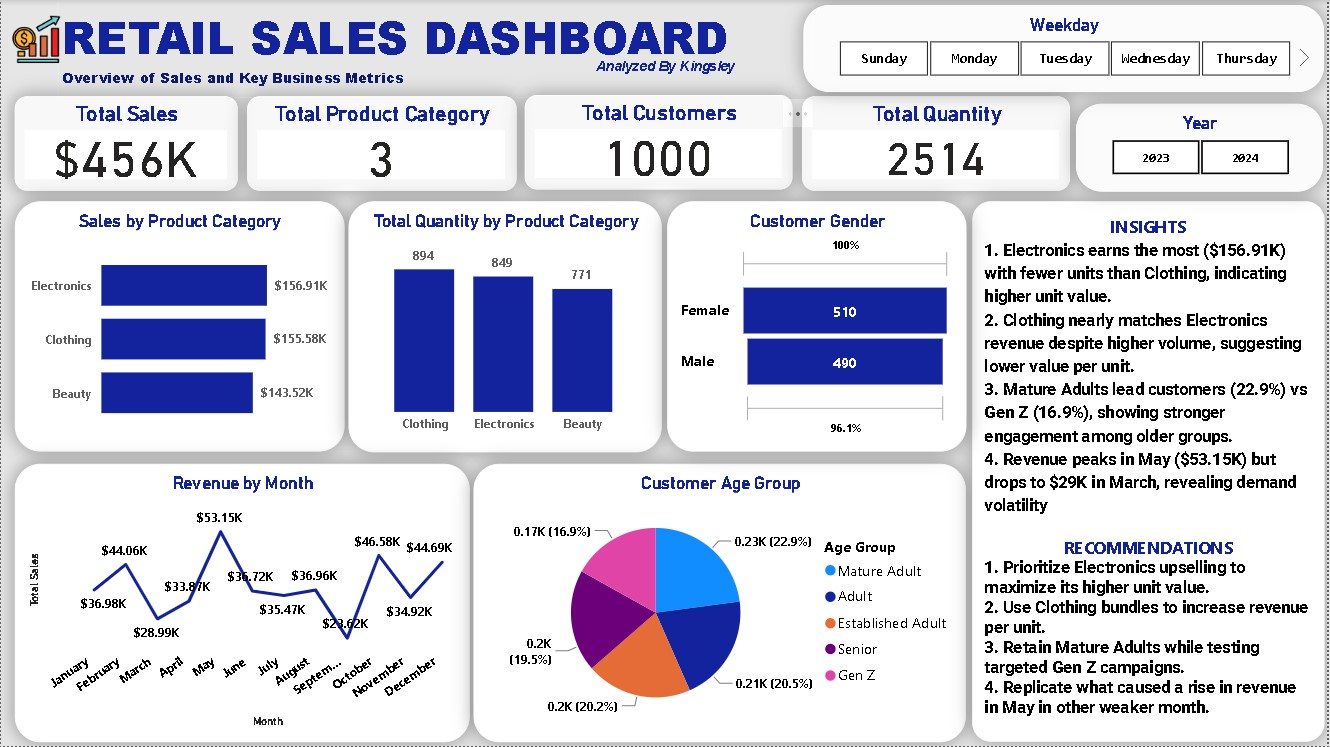

The dashboard page shown, as its layout file describes it:
{"tool":"powerbi","page":{"name":"Page 1","canvas":[1280,720],"ordinal":0},"visuals":[{"type":"textbox","box":[54.7,0,729.1,94.2],"z":0},{"type":"textbox","box":[487.3,49.1,227.3,45.5],"z":1000},{"type":"image","box":[5.8,9.3,55.8,57],"z":2000},{"type":"cardVisual","title":"Total Sales","fields":{"Data":["Sum(retail_sales_dataset_063247 (1).Total Sales)"]},"box":[12.7,92.9,215.3,91.1],"z":3000},{"type":"cardVisual","title":"Total Product Category","fields":{"Data":["Count(retail_sales_dataset_063247 (1).Product Category)"]},"box":[237.1,92.9,259.7,91.1],"z":4000},{"type":"cardVisual","title":"Total Customers","fields":{"Data":["Count(retail_sales_dataset_063247 (1).Customer ID)"]},"box":[506,91.8,258.6,91.1],"z":5000},{"type":"cardVisual","title":"Total Quantity","fields":{"Data":["Sum(retail_sales_dataset_063247 (1).Quantity)"]},"box":[773.7,92.9,258.6,91.1],"z":6000},{"type":"clusteredBarChart","title":"Sales by Product Category","fields":{"Category":["retail_sales_dataset_063247 (1).Product Category"],"Y":["Sum(retail_sales_dataset_063247 (1).Total Sales)"]},"box":[12.7,194.5,318.2,241.8],"z":7000},{"type":"columnChart","title":"Total Quantity by Product Category","fields":{"Category":["retail_sales_dataset_063247 (1).Product Category"],"Y":["Sum(retail_sales_dataset_063247 (1).Quantity)"]},"box":[335.5,193.6,302.7,242.7],"z":8000},{"type":"lineChart","title":"Revenue by Month ","fields":{"Category":["retail_sales_dataset_063247 (1).Month"],"Y":["Sum(retail_sales_dataset_063247 (1).Total Sales)"]},"box":[12.7,448.2,439.1,269.1],"z":9000},{"type":"pieChart","title":"Customer Age Group","fields":{"Category":["retail_sales_dataset_063247 (1).Age Group"],"Y":["CountNonNull(retail_sales_dataset_063247 (1).Customer ID)"]},"box":[456.4,448.2,475.5,269.1],"z":10000},{"type":"textbox","box":[937.3,194.5,340,521.8],"z":11000},{"type":"funnel","title":"Customer Gender","fields":{"Category":["retail_sales_dataset_063247 (1).Gender"],"Y":["CountNonNull(retail_sales_dataset_063247 (1).Customer ID)"]},"box":[642.7,194.5,289.1,241.8],"z":12000},{"type":"slicer","title":"Year","fields":{"Values":["retail_sales_dataset_063247 (1).Year"]},"box":[1037.4,100.2,238.2,84.5],"z":13000},{"type":"slicer","title":"Weekday","fields":{"Values":["retail_sales_dataset_063247 (1).Weekday"]},"box":[774.1,4.4,502.8,84.2],"z":14000}]}

Visuals, with their boxes in screenshot pixels (x1, y1, x2, y2), scaled from the page's 1280x720 canvas onto the 1330x747 screenshot:
textbox: x1=57 y1=0 x2=814 y2=98
textbox: x1=506 y1=51 x2=743 y2=98
image: x1=6 y1=10 x2=64 y2=69
"Total Sales" cardVisual: x1=13 y1=96 x2=237 y2=191
"Total Product Category" cardVisual: x1=246 y1=96 x2=516 y2=191
"Total Customers" cardVisual: x1=526 y1=95 x2=794 y2=190
"Total Quantity" cardVisual: x1=804 y1=96 x2=1073 y2=191
"Sales by Product Category" clusteredBarChart: x1=13 y1=202 x2=344 y2=453
"Total Quantity by Product Category" columnChart: x1=349 y1=201 x2=663 y2=453
"Revenue by Month " lineChart: x1=13 y1=465 x2=469 y2=744
"Customer Age Group" pieChart: x1=474 y1=465 x2=968 y2=744
textbox: x1=974 y1=202 x2=1327 y2=743
"Customer Gender" funnel: x1=668 y1=202 x2=968 y2=453
"Year" slicer: x1=1078 y1=104 x2=1325 y2=192
"Weekday" slicer: x1=804 y1=5 x2=1327 y2=92
